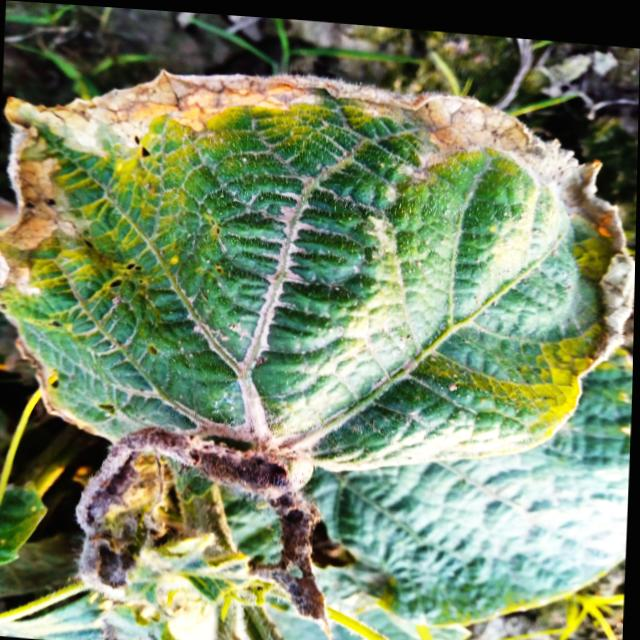Gummy-Stem-Blight: (0, 68, 635, 370)
